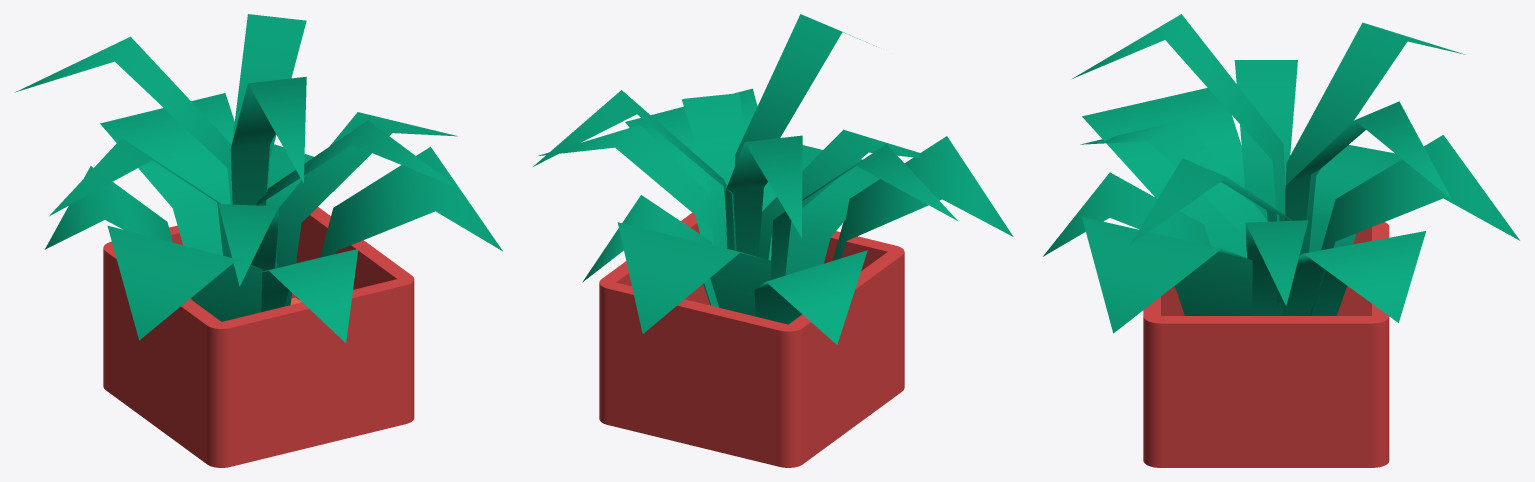
Rendered from houseplant1.fbx.
3 views of the same model, side by side, from view 1: azimuth 30°, elevation 25°; view 2: azimuth 150°, elevation 25°; view 3: azimuth 270°, elevation 25° (orthographic). The views are drawn at different scales.
Parts seen in each view (by area): view 1: detail_balcony (×2), plant_large (×2), plant_largeLeaf (×7); view 2: detail_balcony (×2), plant_large (×2), plant_largeLeaf (×7); view 3: plant_large (×2), detail_balcony (×2), plant_largeLeaf (×7).
Boxes of the visible parts, <box> form: detail_balcony (×2): <box>103,207,414,467</box>; plant_large (×2): <box>45,93,502,342</box>; plant_largeLeaf (×7): <box>15,14,458,306</box>; detail_balcony (×2): <box>599,212,904,467</box>; plant_large (×2): <box>582,88,1013,344</box>; plant_largeLeaf (×7): <box>533,14,957,279</box>; plant_large (×2): <box>1043,88,1519,333</box>; detail_balcony (×2): <box>1143,222,1389,467</box>; plant_largeLeaf (×7): <box>1072,14,1464,315</box>.
Size of the model in its own units: 20.53 by 16.86 by 19.45.
